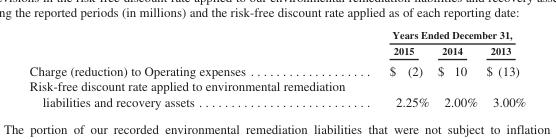table: (28, 28, 525, 108)
table column: (28, 28, 366, 108), (366, 28, 432, 108), (432, 28, 481, 108), (481, 28, 525, 108)
table column header: (28, 28, 525, 59)
table row: (28, 78, 525, 108), (28, 59, 525, 78), (28, 42, 525, 59), (28, 28, 525, 42)
table spanning cell: (366, 28, 525, 42)
